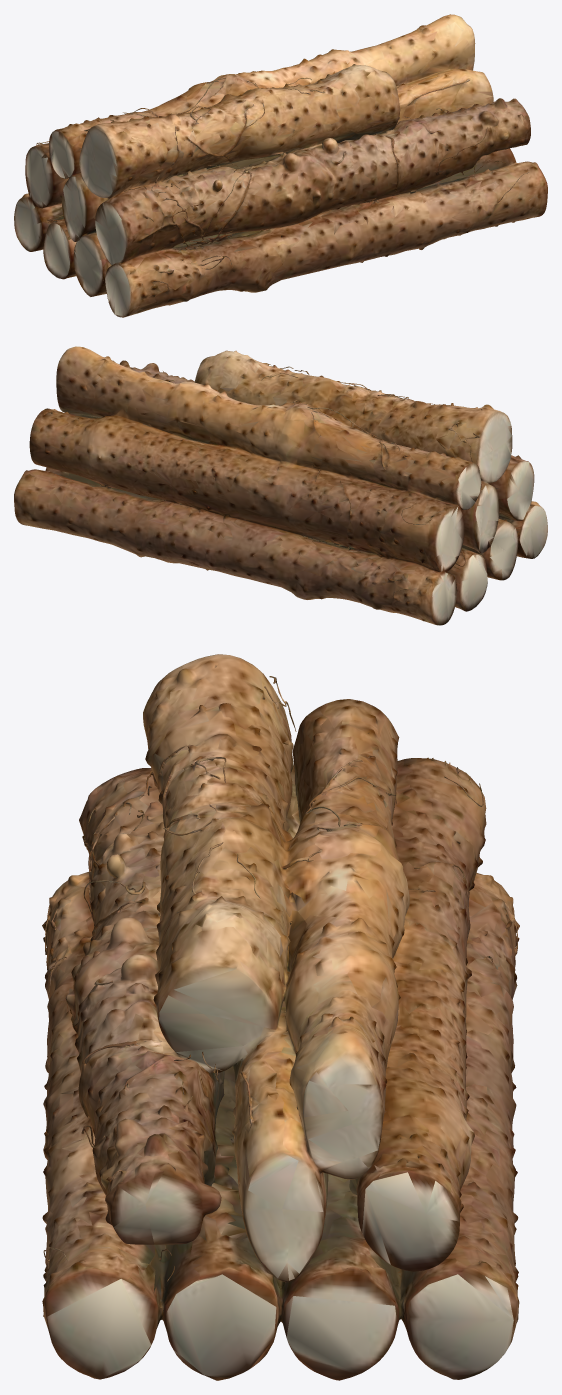
The model's file is breadsticks.glb.
The picture shows the model from 3 angles, top to bottom: view 1: azimuth 30°, elevation 25°; view 2: azimuth 150°, elevation 25°; view 3: azimuth 270°, elevation 25°; orthographic projection. The views are drawn at different scales.
Visible parts, largest first — view 1: Meshy_AI_Seeded_breadsticks_0528204444_texture; view 2: Meshy_AI_Seeded_breadsticks_0528204444_texture; view 3: Meshy_AI_Seeded_breadsticks_0528204444_texture.
Boxes of the visible parts, x1,y1,x2,y2 form: Meshy_AI_Seeded_breadsticks_0528204444_texture: (14,14,547,317); Meshy_AI_Seeded_breadsticks_0528204444_texture: (14,346,547,625); Meshy_AI_Seeded_breadsticks_0528204444_texture: (42,654,519,1380).
Size of the model in its own units: 1.9 by 0.7405 by 0.9392.
1 material, 1 textured.
